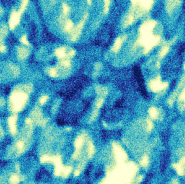hole_filled: (107, 16, 175, 69), (37, 4, 115, 47)
